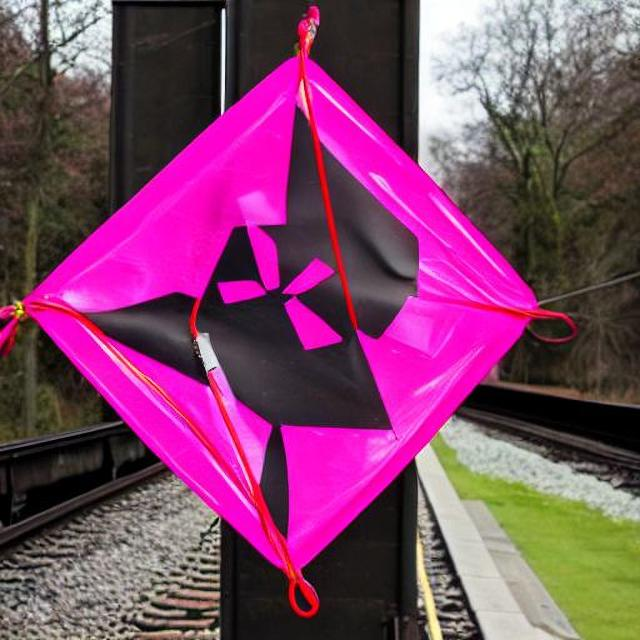floating object: (20, 13, 567, 620)
